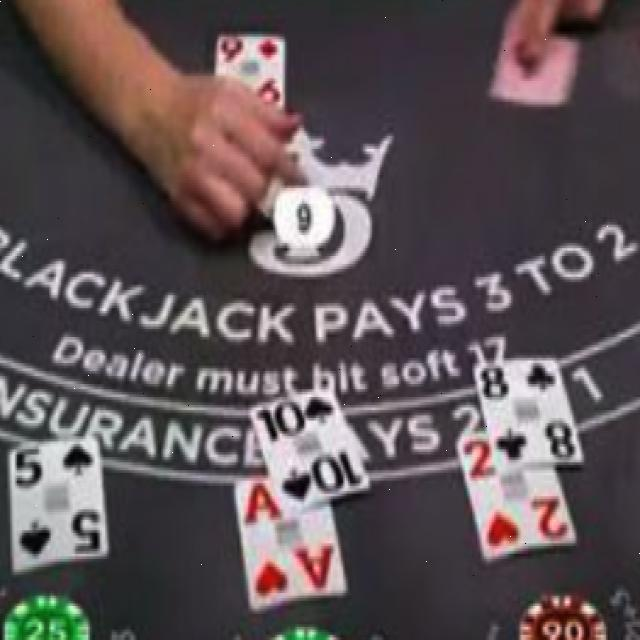Card-10: (247, 385, 371, 512)
Card-2: (457, 429, 576, 561)
Card-5: (10, 436, 108, 575)
Card-8: (474, 357, 583, 466)
Card-9: (214, 35, 285, 112)
Card-A: (235, 477, 347, 612)
